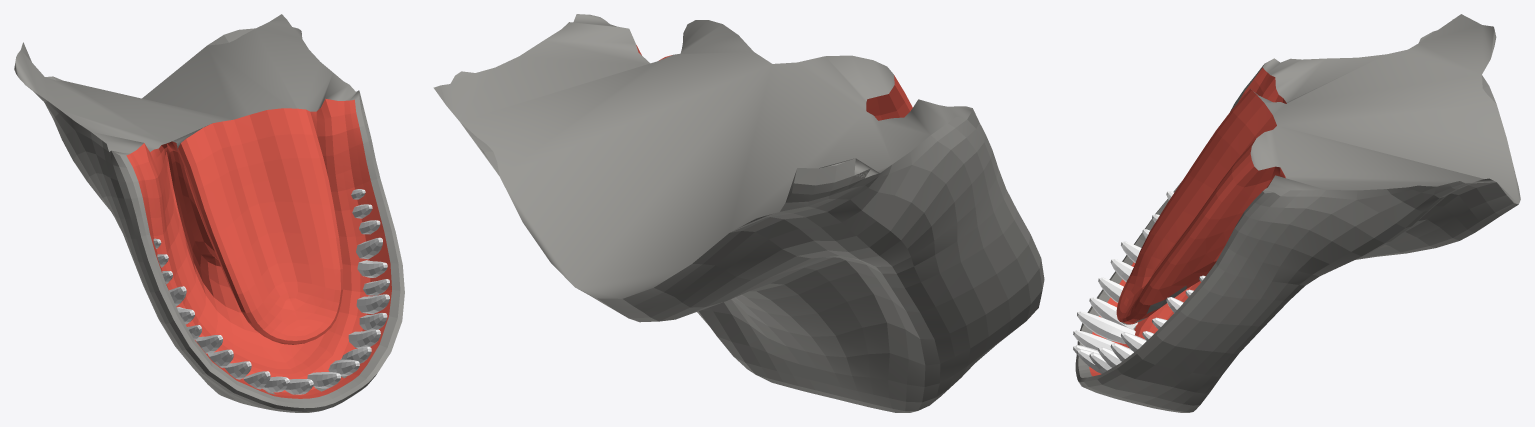
Rendered from boca.obj.
The picture shows the model from 3 angles, left to right: view 1: azimuth 30°, elevation 25°; view 2: azimuth 150°, elevation 25°; view 3: azimuth 270°, elevation 25°; orthographic projection. The views are drawn at different scales.
Parts seen in each view (by area): view 1: polySurface157; view 2: polySurface157; view 3: polySurface157.
Boxes of the visible parts, x1,y1,x2,y2 form: polySurface157: (14,14,404,412); polySurface157: (433,14,1044,412); polySurface157: (1073,14,1520,412).
Bounding box in the file's own units: 0.6692 × 0.6533 × 0.8572.
3 materials, 3 textured.
